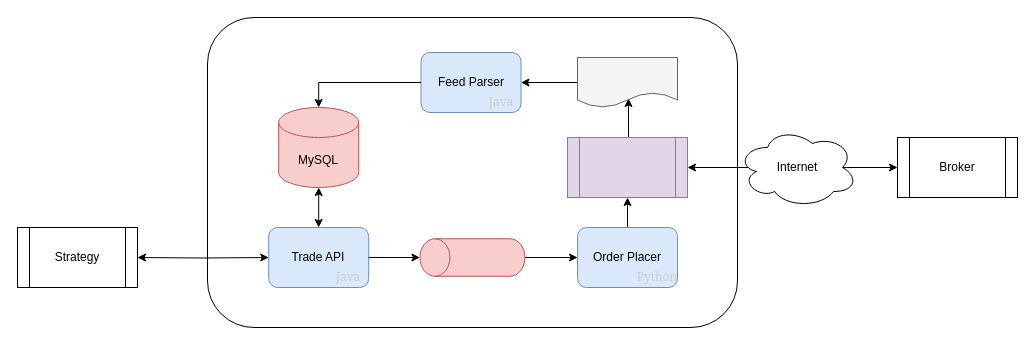
This 1035x345 diagram has some shape labels left out. Each missing label, with the centre of its shape:
MiniQMT: [627,167]
Output Files: [627,82]
Redis: [472,257]
